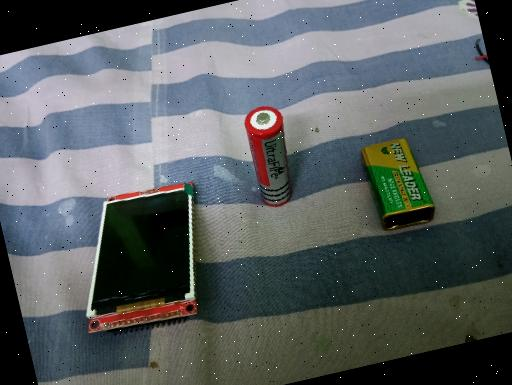Battery: (356, 132, 438, 233), (240, 101, 302, 210)
Display: (60, 176, 224, 345)
